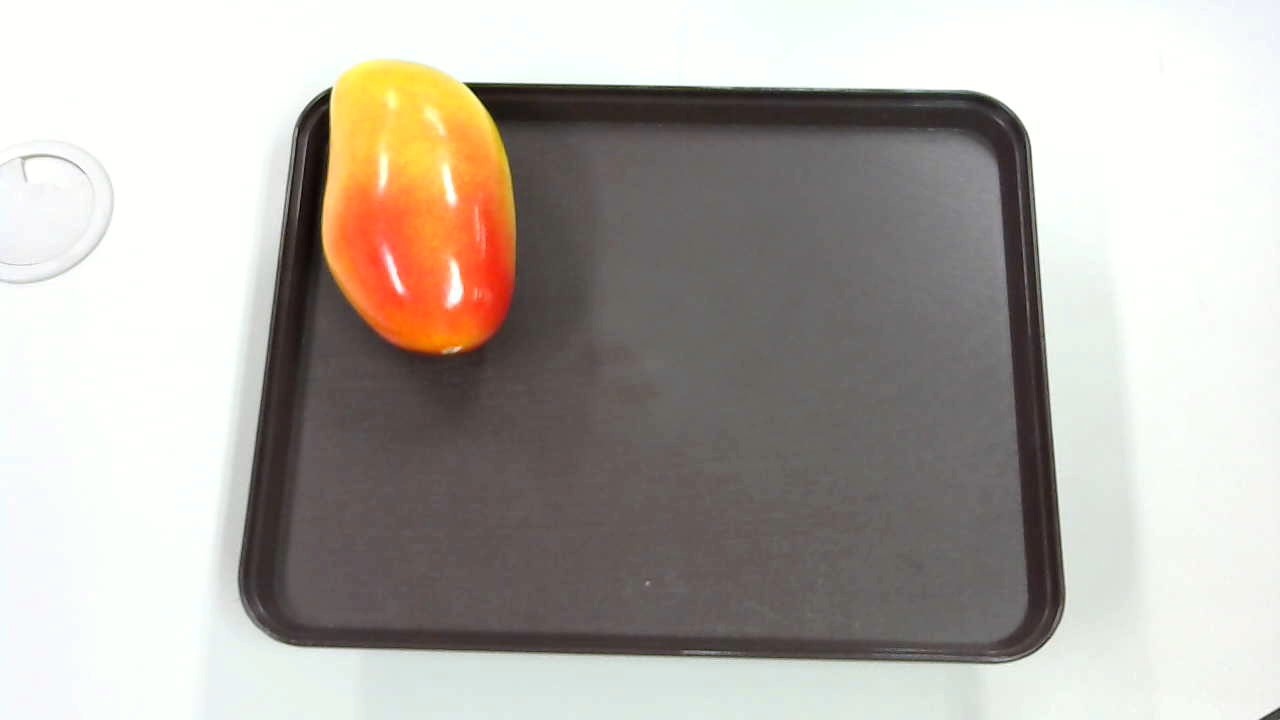red mango: (317, 54, 549, 368)
